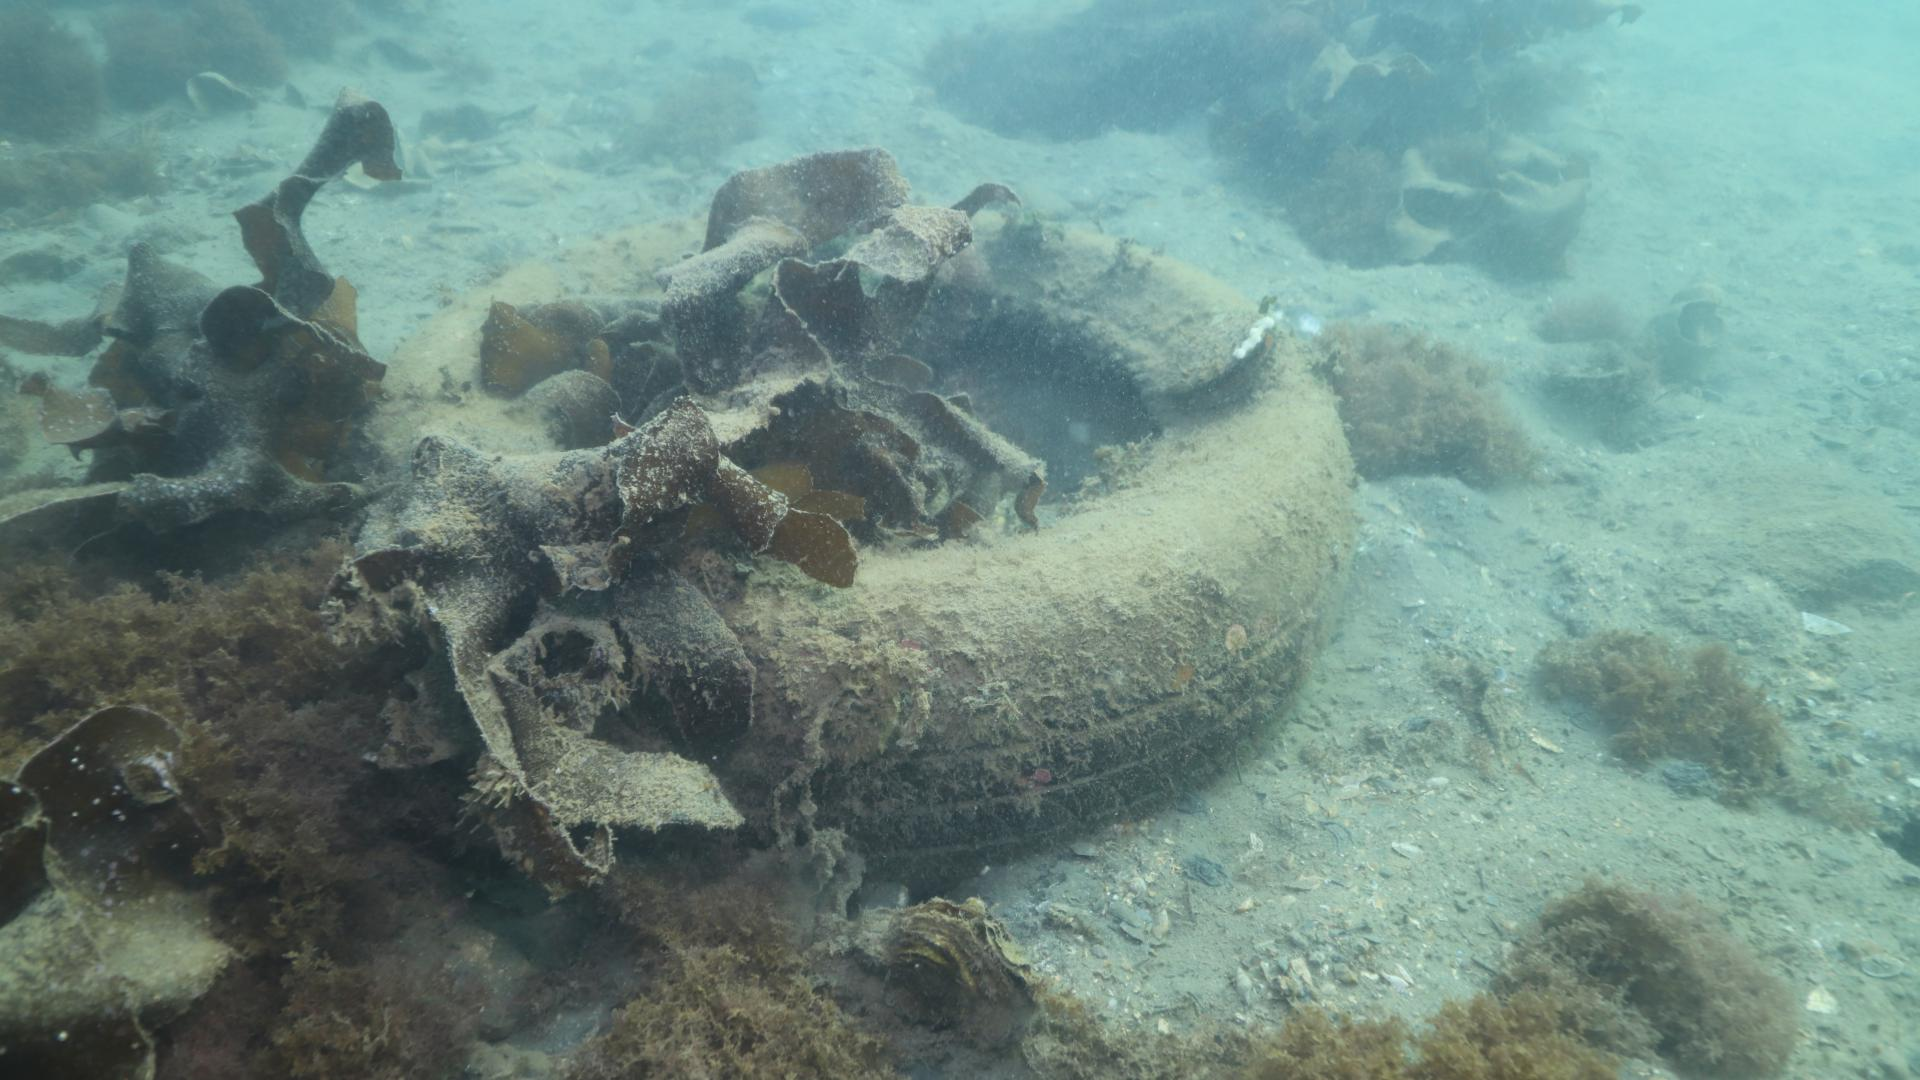tire: (353, 211, 1358, 887)
